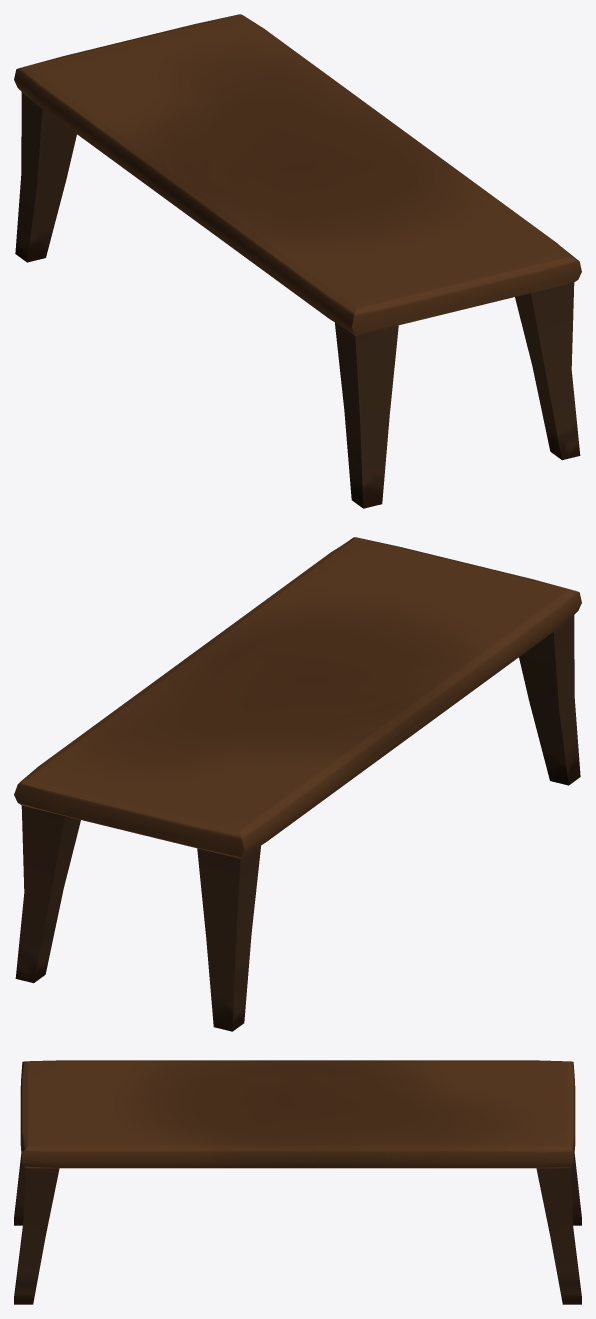
File: LabTable.fbx
3 renders of one model, top to bottom at view 1: azimuth 30°, elevation 25°; view 2: azimuth 150°, elevation 25°; view 3: azimuth 270°, elevation 25°, orthographic. The views are drawn at different scales.
Parts seen in each view (by area): view 1: LabTable; view 2: LabTable; view 3: LabTable.
Boxes of the visible parts, x1,y1,x2,y2 form: LabTable: (14,14,581,508); LabTable: (14,537,581,1031); LabTable: (14,1060,581,1304).
Bounding box in the file's own units: 2.48 × 1.97 × 6.43.
